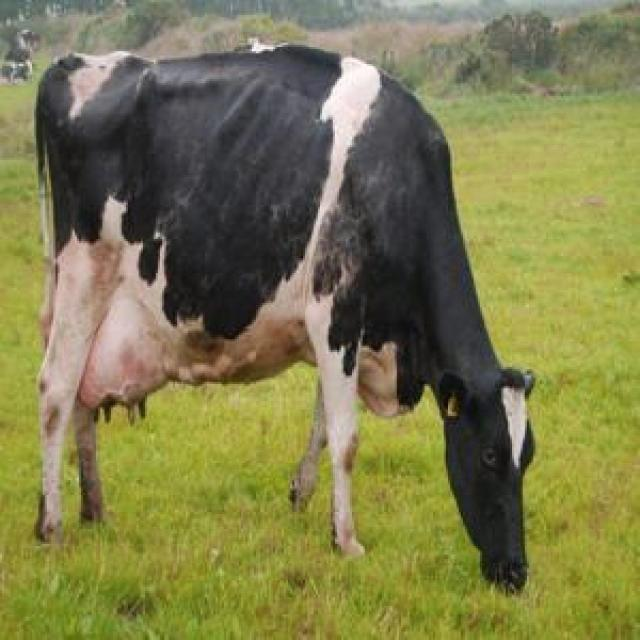cow: (35, 46, 534, 590)
